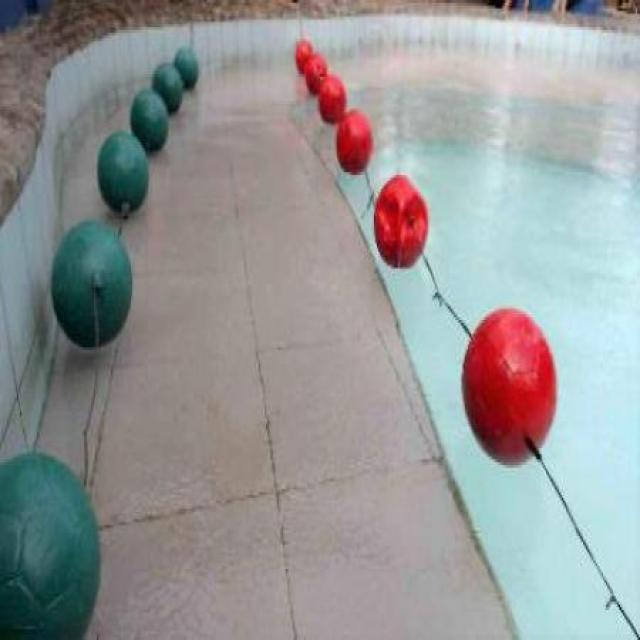buoy: (1, 450, 100, 638), (461, 307, 557, 470), (50, 219, 132, 350), (371, 175, 428, 269), (97, 131, 149, 213), (335, 108, 373, 176), (130, 89, 167, 151), (152, 61, 182, 114), (317, 72, 344, 124), (174, 42, 196, 89), (303, 52, 328, 90), (294, 40, 312, 70)
